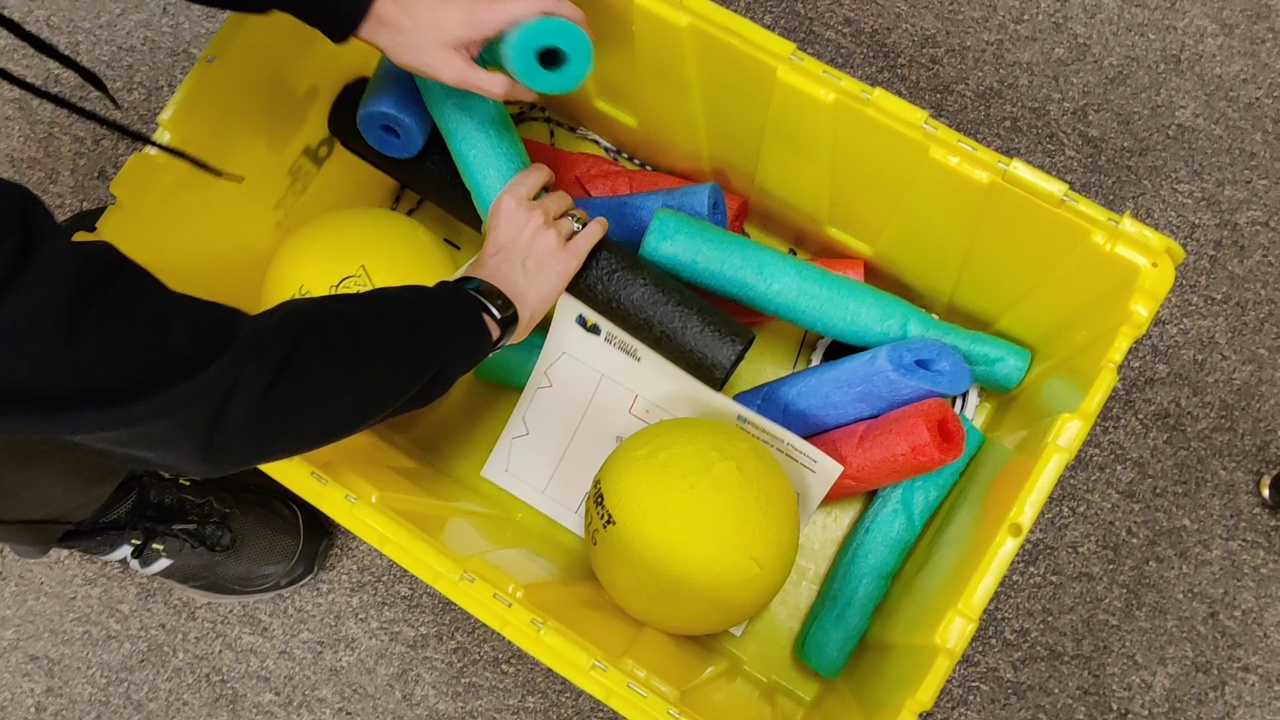Ball: (584, 417, 800, 633), (262, 205, 444, 290)
